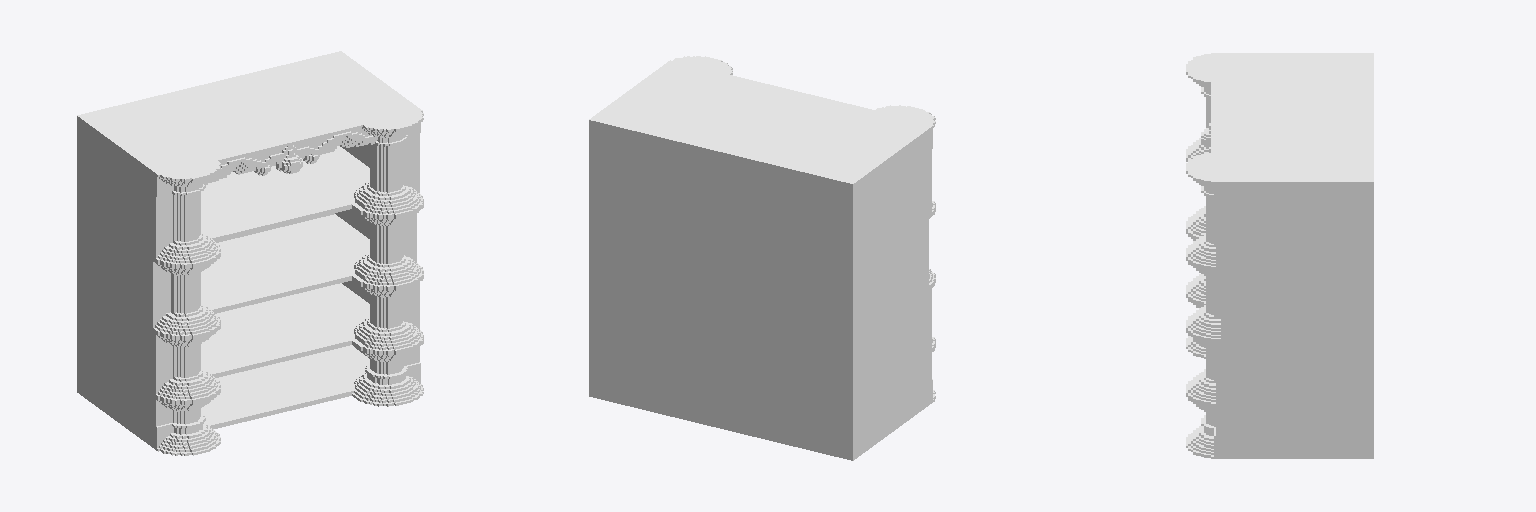
The model's file is bureau_mobilier-2.obj.
3 renders of one model, left to right at view 1: azimuth 30°, elevation 25°; view 2: azimuth 150°, elevation 25°; view 3: azimuth 270°, elevation 25°, orthographic.
Visible parts, largest first — view 1: object 1; view 2: object 1; view 3: object 1.
Part boxes in pixels (left/top/right/bottom): object 1: left=77, top=51, right=423, bottom=455; object 1: left=589, top=56, right=935, bottom=460; object 1: left=1186, top=53, right=1373, bottom=458.
Bounding box in the file's own units: 12 × 12 × 7.4.